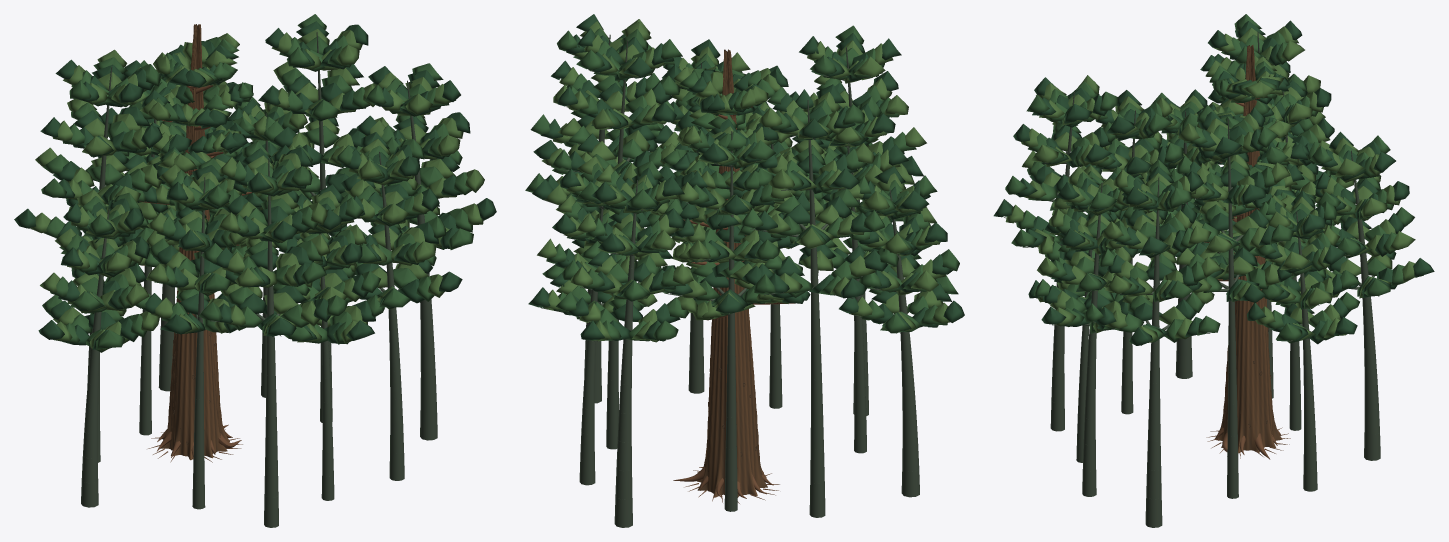
File: pine-landing.glb
3 renders of one model, left to right at view 1: azimuth 30°, elevation 25°; view 2: azimuth 150°, elevation 25°; view 3: azimuth 270°, elevation 25°, orthographic. The views are drawn at different scales.
Visible parts, largest first — view 1: forest-ffffff (×2), forest-435041, forest-6a4932; view 2: forest-ffffff (×2), forest-435041, forest-6a4932; view 3: forest-ffffff (×2), forest-435041, forest-6a4932.
Part boxes in pixels (x1,y1,x2,y2): forest-ffffff (×2): (14, 14, 496, 460); forest-435041: (28, 32, 461, 527); forest-6a4932: (139, 85, 252, 462); forest-ffffff (×2): (525, 14, 964, 497); forest-435041: (541, 34, 921, 527); forest-6a4932: (673, 106, 795, 503); forest-ffffff (×2): (993, 14, 1434, 453); forest-435041: (1004, 31, 1402, 527); forest-6a4932: (1204, 98, 1299, 459).
Size of what is drawn, in the model's own units: 45.55 by 42.01 by 42.49.
